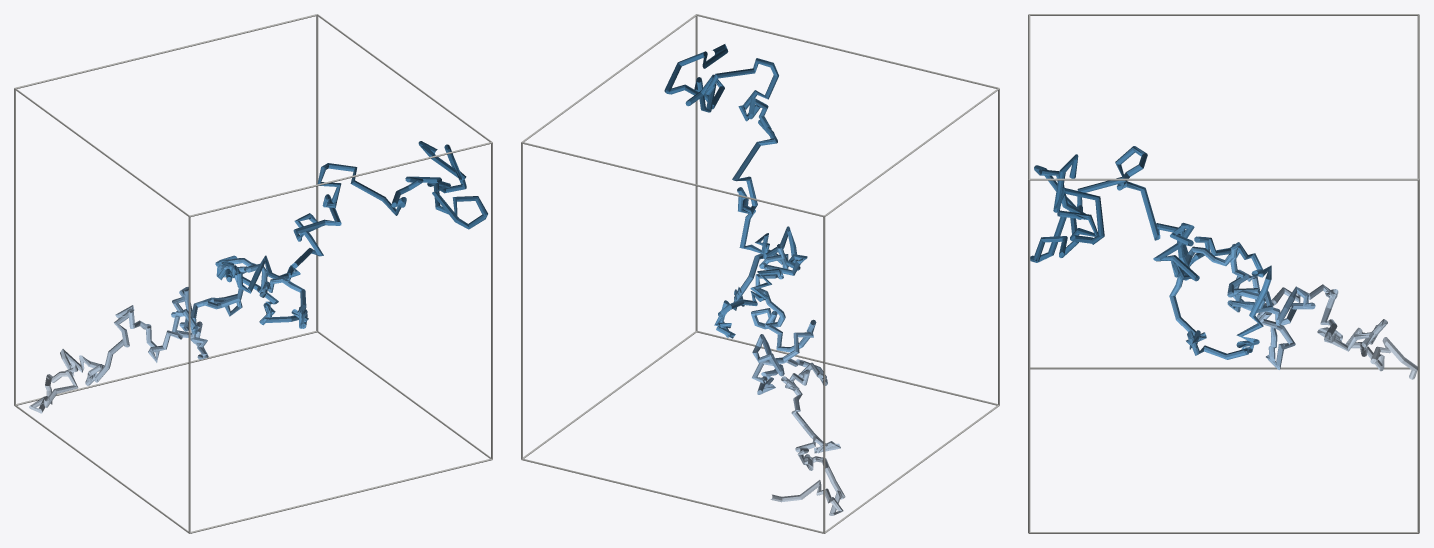
Rendered from BR08_early.glb.
The picture shows the model from 3 angles, left to right: view 1: azimuth 30°, elevation 25°; view 2: azimuth 150°, elevation 25°; view 3: azimuth 270°, elevation 25°; orthographic projection. The views are drawn at different scales.
Parts seen in each view (by area): view 1: geometry_0, geometry_1; view 2: geometry_0, geometry_1; view 3: geometry_0, geometry_1.
Part boxes in pixels (<box>): geometry_0: <box>29,141,487,413</box>; geometry_1: <box>14,14,492,533</box>; geometry_0: <box>664,44,845,515</box>; geometry_1: <box>521,14,999,533</box>; geometry_0: <box>1030,146,1417,379</box>; geometry_1: <box>1028,14,1419,533</box>.
Size of the model in its own units: 0.3048 by 0.3014 by 0.3016.
